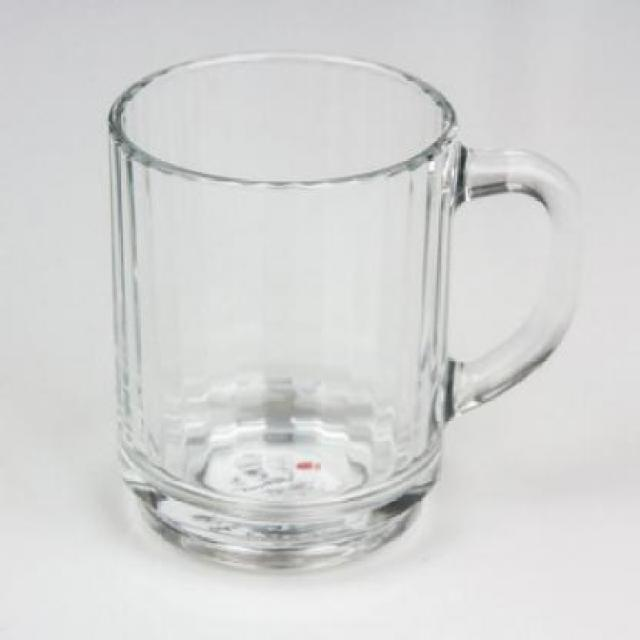taza: (107, 50, 580, 571)
